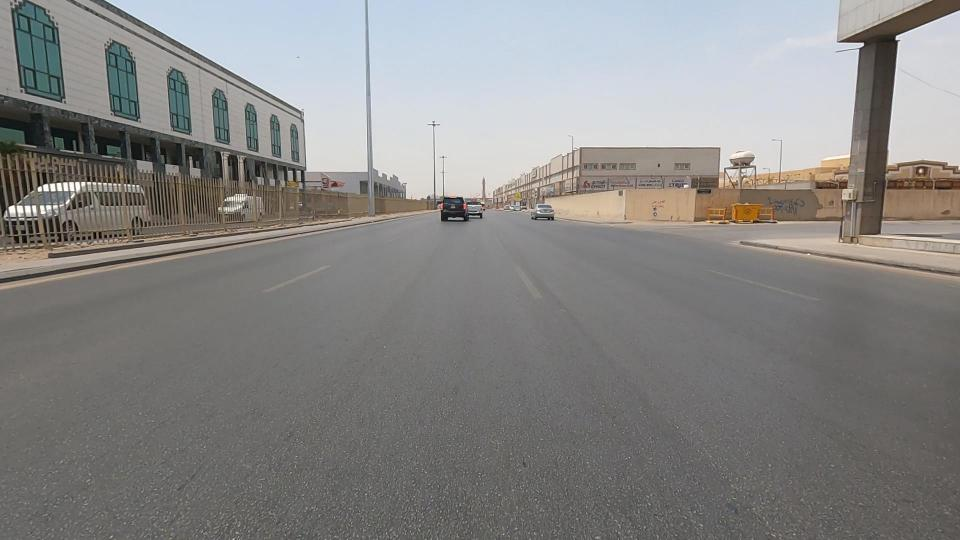GRAFFITI: (723, 178, 846, 236)
